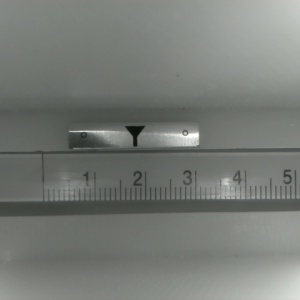1: (82, 172, 89, 186)
2: (132, 170, 142, 186)
3: (182, 170, 191, 185)
4: (230, 171, 240, 185)
5: (281, 168, 292, 185)
finger: (123, 126, 145, 147)
